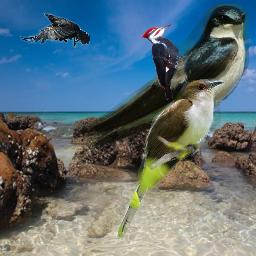Crow: (19, 13, 90, 48)
Cuckoo: (115, 78, 225, 240)
Swallow: (83, 4, 249, 150)
Woodpecker: (141, 24, 184, 101)
